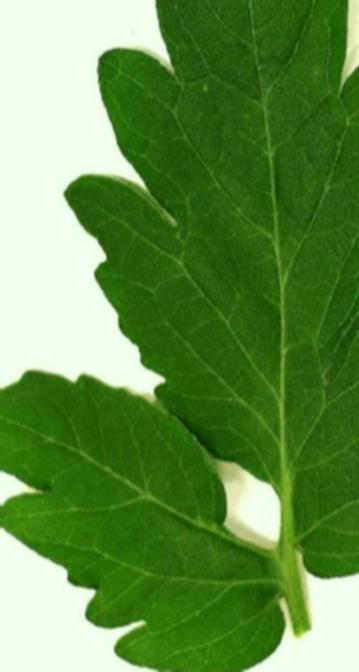Tomato leaf: (102, 0, 359, 586), (0, 355, 280, 666)
